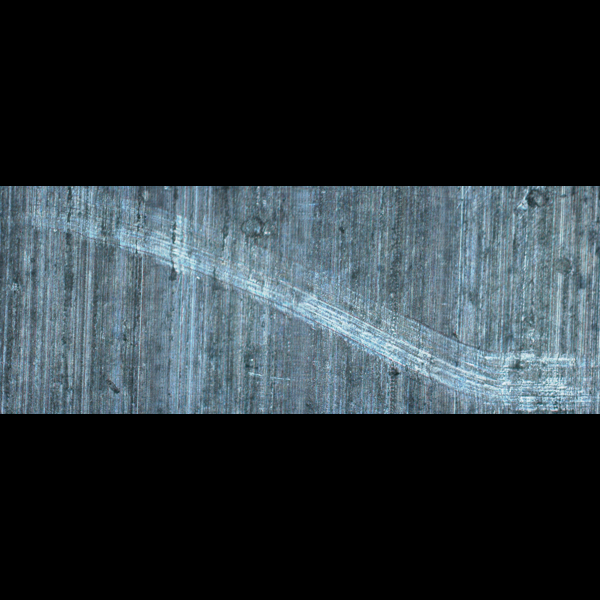d: (423, 347, 599, 413), (29, 197, 183, 262), (162, 240, 317, 302), (315, 298, 442, 360)
